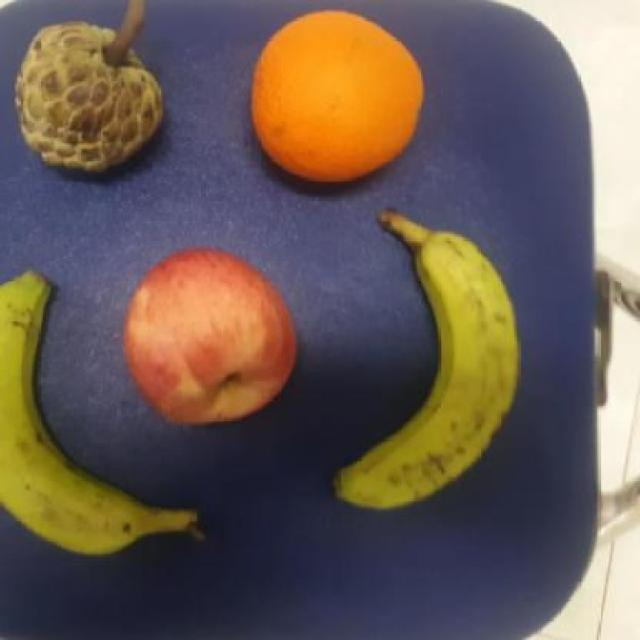apple: (120, 241, 303, 436)
banana: (0, 266, 205, 562), (333, 210, 524, 515)
oren: (248, 7, 428, 185)
sugar apple: (10, 17, 178, 185)
